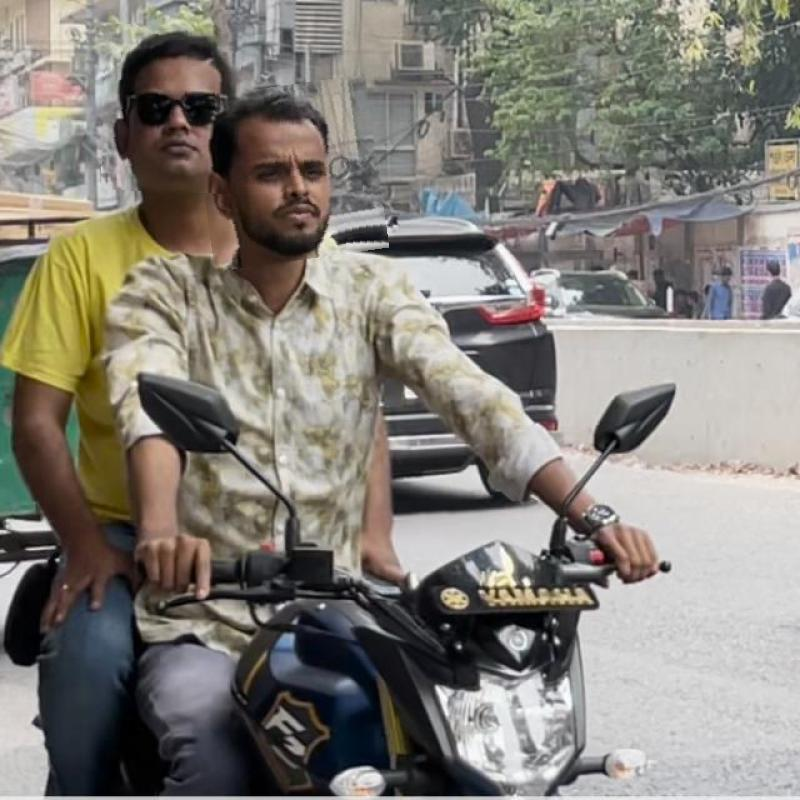nohelmet: (196, 80, 384, 266), (102, 25, 242, 193)
